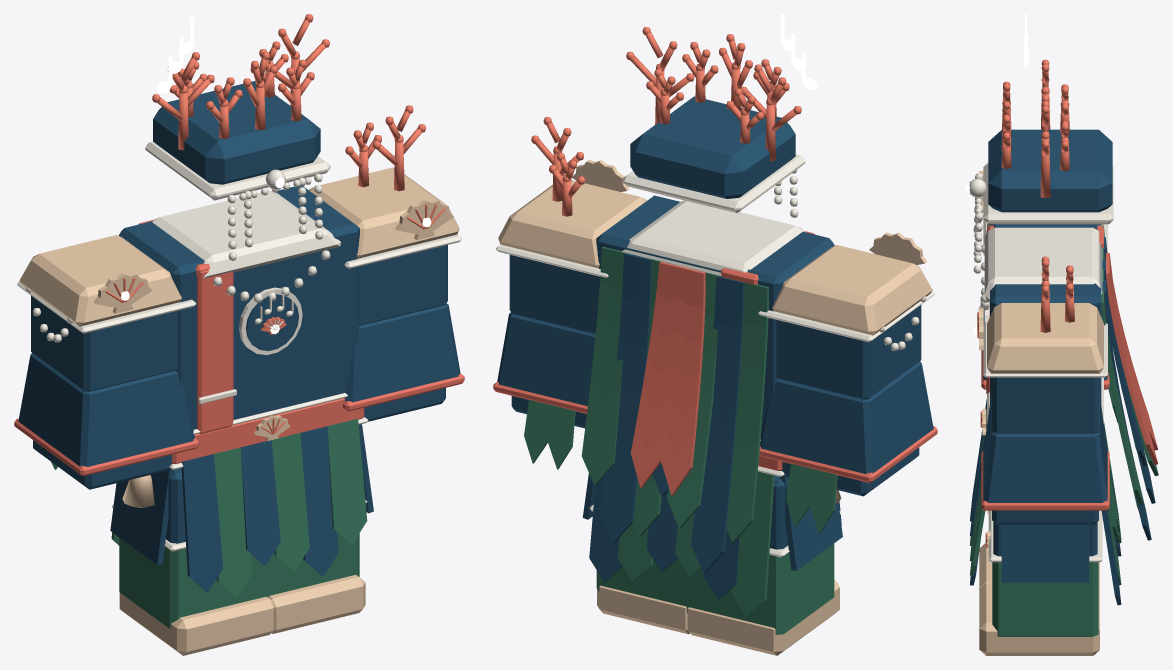
The model's file is Songkeeper.fbx.
3 renders of one model, left to right at view 1: azimuth 30°, elevation 25°; view 2: azimuth 150°, elevation 25°; view 3: azimuth 270°, elevation 25°, orthographic. The views are drawn at different scales.
Visible parts, largest first — view 1: Armor_Songkeeper_Chest_Robe_Common, Armor_Songkeeper_Belt_RobeSway_Common, Armor_Songkeeper_BracerR_Robe_Common, Armor_Songkeeper_Belt_SeaweedSway_Common, Armor_Songkeeper_Helm_Robe_Common, Armor_Songkeeper_Chest_Pearl_Common, Armor_Songkeeper_PauldronR_Robe_Common, Armor_Songkeeper_PauldronR_Shell_Common, Armor_Songkeeper_BracerL_Robe_Common, Armor_Songkeeper_GreaveR_Seaweed_Common, Armor_Songkeeper_PauldronL_Shell_Common, Armor_Songkeeper_Chest_Coralcloth_Common (+27 smaller); view 2: Armor_Songkeeper_Chest_SeaweedSway_Common, Armor_Songkeeper_Chest_RobeSway_Uncommon, Armor_Songkeeper_BracerR_Robe_Common, Armor_Songkeeper_Chest_CoralclothSway_Rare, Armor_Songkeeper_Helm_Robe_Common, Armor_Songkeeper_PauldronR_Shell_Common, Armor_Songkeeper_PauldronR_Robe_Common, Armor_Songkeeper_Chest_Pearl_Common, Armor_Songkeeper_Belt_RobeSway_Common, Armor_Songkeeper_PauldronL_Shell_Common, Armor_Songkeeper_BracerL_Robe_Common, Armor_Songkeeper_GreaveR_Seaweed_Common (+23 smaller); view 3: Armor_Songkeeper_Helm_Robe_Common, Armor_Songkeeper_BracerL_Robe_Common, Armor_Songkeeper_PauldronL_Shell_Common, Armor_Songkeeper_Belt_RobeSway_Common, Armor_Songkeeper_Chest_Pearl_Common, Armor_Songkeeper_GreaveL_Seaweed_Common, Armor_Songkeeper_PauldronL_Robe_Common, Armor_Songkeeper_BootL_Shell_Common, Armor_Songkeeper_Chest_Robe_Common, Armor_Songkeeper_Helm_Pearl_Common, Armor_Songkeeper_Chest_RobeSway_Uncommon, Armor_Songkeeper_Chest_CoralclothSway_Rare (+15 smaller).
Boxes of the visible parts, box(x1,y1,x2,y2) form: Armor_Songkeeper_Chest_Robe_Common: box(119, 186, 359, 429); Armor_Songkeeper_Belt_RobeSway_Common: box(110, 424, 373, 592); Armor_Songkeeper_BracerR_Robe_Common: box(18, 353, 194, 466); Armor_Songkeeper_Belt_SeaweedSway_Common: box(111, 419, 367, 597); Armor_Songkeeper_Helm_Robe_Common: box(153, 81, 320, 184); Armor_Songkeeper_Chest_Pearl_Common: box(152, 190, 340, 278); Armor_Songkeeper_PauldronR_Robe_Common: box(31, 289, 177, 391); Armor_Songkeeper_PauldronR_Shell_Common: box(19, 235, 181, 326); Armor_Songkeeper_BracerL_Robe_Common: box(344, 303, 460, 402); Armor_Songkeeper_GreaveR_Seaweed_Common: box(119, 537, 267, 629); Armor_Songkeeper_PauldronL_Shell_Common: box(309, 167, 459, 258); Armor_Songkeeper_Chest_Coralcloth_Common: box(138, 219, 233, 434); Armor_Songkeeper_Chest_SeaweedSway_Common: box(581, 247, 768, 542); Armor_Songkeeper_Chest_RobeSway_Uncommon: box(600, 253, 744, 573); Armor_Songkeeper_BracerR_Robe_Common: box(760, 361, 933, 473); Armor_Songkeeper_Chest_CoralclothSway_Rare: box(630, 261, 705, 495); Armor_Songkeeper_Helm_Robe_Common: box(630, 96, 795, 198); Armor_Songkeeper_PauldronR_Shell_Common: box(772, 245, 932, 335); Armor_Songkeeper_PauldronR_Robe_Common: box(776, 298, 921, 399); Armor_Songkeeper_Chest_Pearl_Common: box(622, 200, 804, 275); Armor_Songkeeper_Belt_RobeSway_Common: box(582, 473, 842, 599); Armor_Songkeeper_PauldronL_Shell_Common: box(498, 180, 646, 268); Armor_Songkeeper_BracerL_Robe_Common: box(497, 312, 595, 405); Armor_Songkeeper_GreaveR_Seaweed_Common: box(687, 543, 834, 634); Armor_Songkeeper_Helm_Robe_Common: box(988, 129, 1112, 212); Armor_Songkeeper_BracerL_Robe_Common: box(983, 394, 1107, 502); Armor_Songkeeper_PauldronL_Shell_Common: box(987, 303, 1103, 373); Armor_Songkeeper_Belt_RobeSway_Common: box(970, 398, 1121, 605); Armor_Songkeeper_Chest_Pearl_Common: box(984, 227, 1102, 301); Armor_Songkeeper_GreaveL_Seaweed_Common: box(992, 562, 1098, 636); Armor_Songkeeper_PauldronL_Robe_Common: box(992, 377, 1098, 433); Armor_Songkeeper_BootL_Shell_Common: box(979, 583, 1099, 655); Armor_Songkeeper_Chest_Robe_Common: box(990, 224, 1101, 405); Armor_Songkeeper_Helm_Pearl_Common: box(969, 163, 1113, 224); Armor_Songkeeper_Chest_RobeSway_Uncommon: box(1102, 237, 1155, 540); Armor_Songkeeper_Chest_CoralclothSway_Rare: box(1106, 253, 1158, 464).
Bounding box in the file's own units: 427 × 653 × 198.
